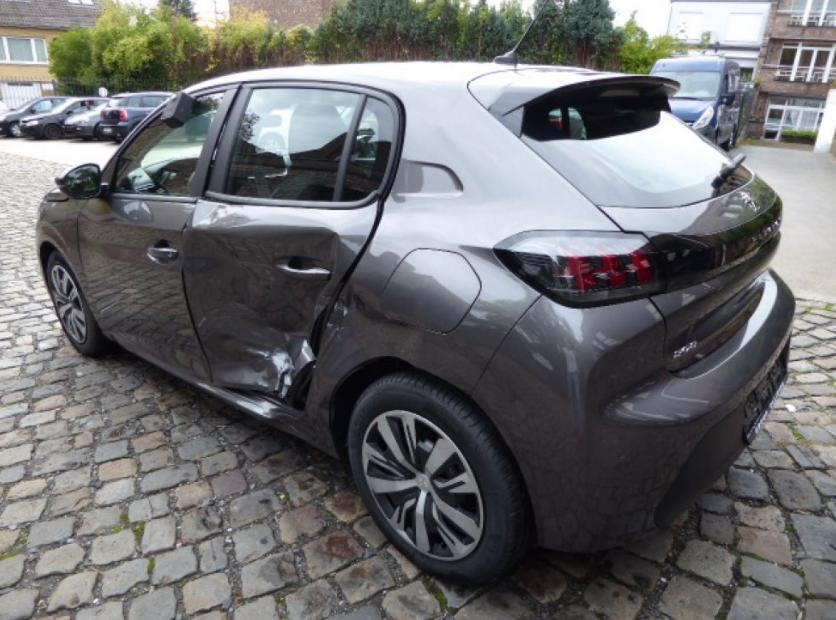Back-bumper: (470, 269, 794, 548)
Back-door: (184, 83, 399, 401)
Back-wheel: (345, 374, 532, 583)
Back-window: (225, 89, 392, 202)
Back-windshield: (523, 90, 751, 207)
Fender: (35, 199, 107, 333)
Front-door: (76, 84, 240, 384)
Front-wheel: (43, 254, 110, 360)
Front-window: (115, 93, 222, 196)
Hood: (42, 186, 71, 201)
License-plate: (744, 350, 786, 441)
Mirror: (55, 165, 102, 198)
Quarter-panel: (303, 196, 618, 418)
Rocker-panel: (106, 331, 338, 460)
Roof: (182, 61, 571, 93)
Tail-light: (504, 230, 661, 307)
Trunk: (474, 67, 784, 372)
